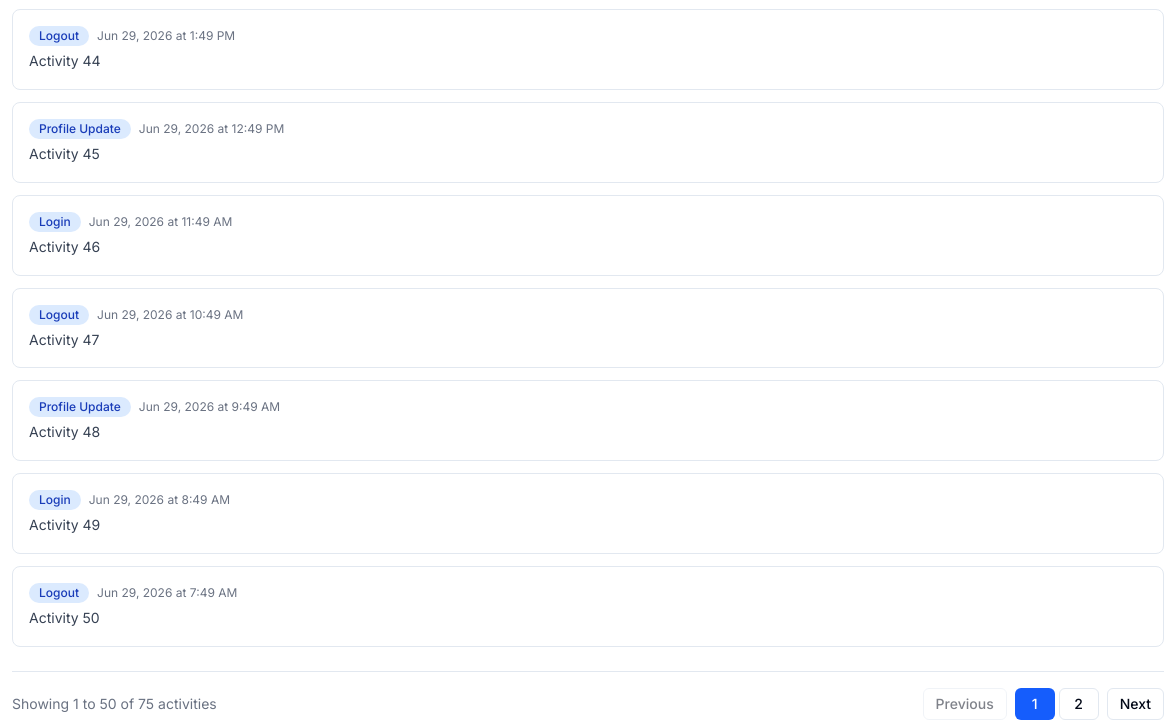
ActivityLog Component › Pagination (Req 9.3) › should navigate to previous page
(page scrolled)
// Go to page 2
Click the button "Next" at (1135, 704), box [1107,688,1164,719]
(page scrolled)
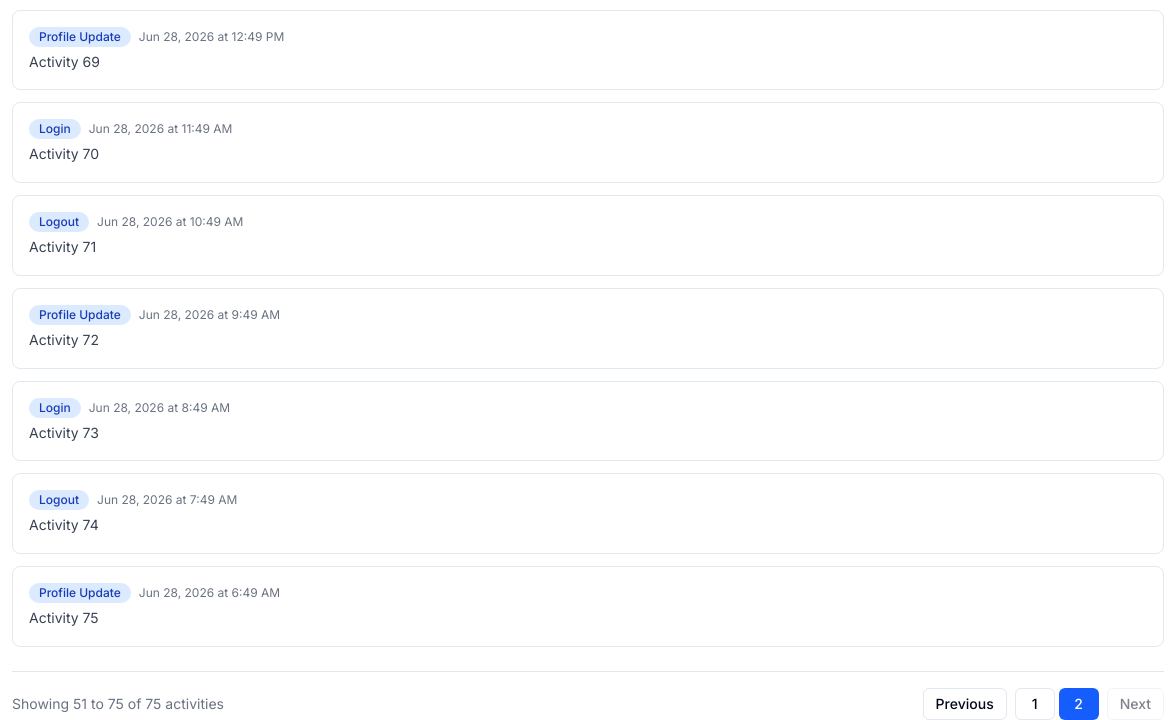
// Go back to page 1
Click the button "Previous" at (965, 704), box [923,688,1007,719]
(page scrolled)
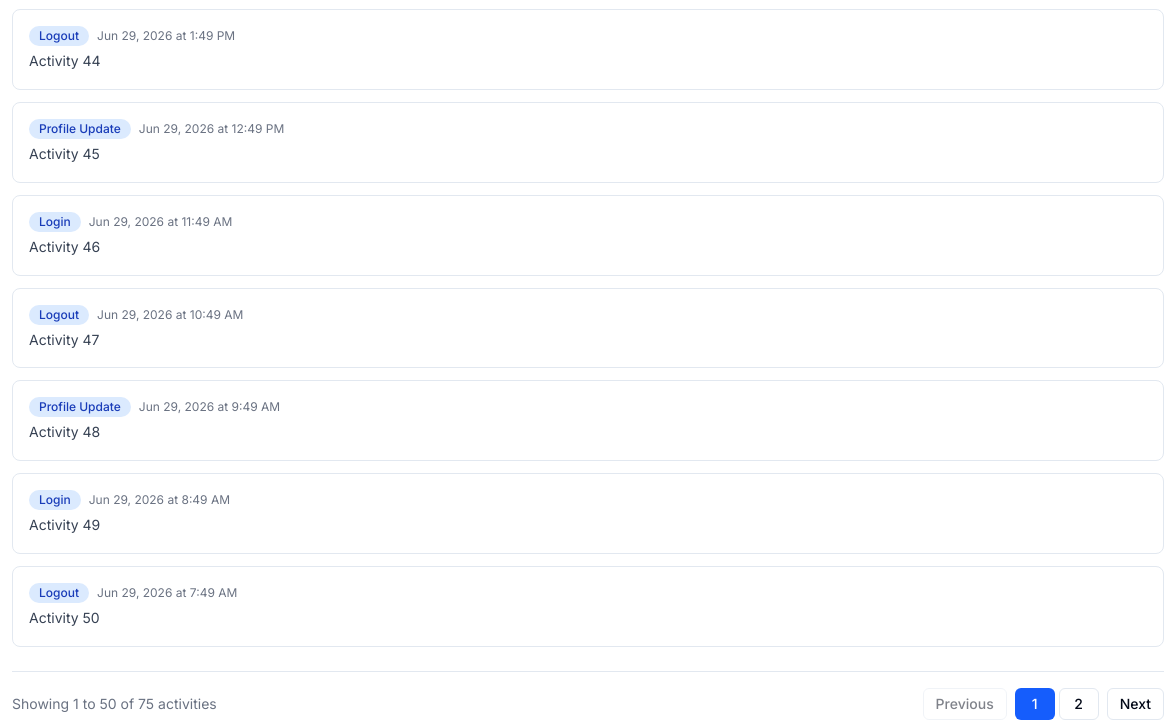
Check: the text "Showing 1 to 50 of 75 activities" is shown, box [12,694,217,714]
